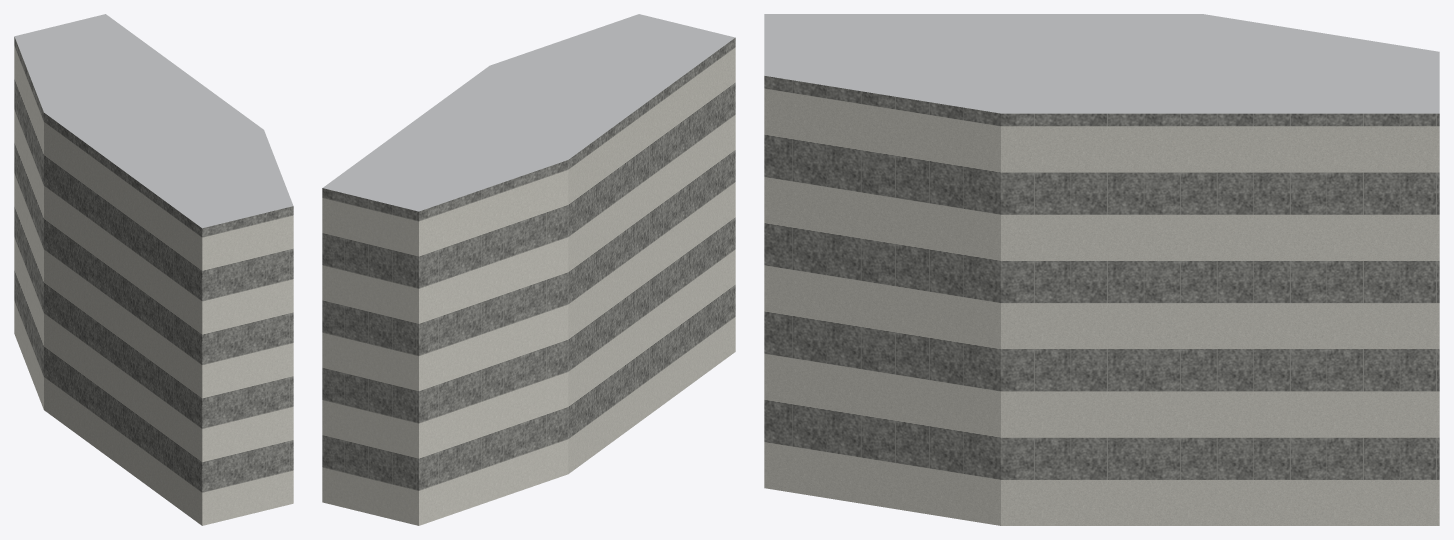
File: bldg_far_01.gltf
The picture shows the model from 3 angles, left to right: view 1: azimuth 30°, elevation 25°; view 2: azimuth 150°, elevation 25°; view 3: azimuth 270°, elevation 25°; orthographic projection. The views are drawn at different scales.
Parts seen in each view (by area): view 1: bldg_far_01.facade, bldg_far_01.roof; view 2: bldg_far_01.facade, bldg_far_01.roof; view 3: bldg_far_01.facade, bldg_far_01.roof.
Boxes of the visible parts, bbox=[...] form: bldg_far_01.facade: bbox=[14, 37, 293, 525]; bldg_far_01.roof: bbox=[14, 14, 293, 228]; bldg_far_01.facade: bbox=[322, 37, 735, 525]; bldg_far_01.roof: bbox=[323, 14, 734, 211]; bldg_far_01.facade: bbox=[764, 76, 1439, 525]; bldg_far_01.roof: bbox=[764, 14, 1439, 113].
Bounding box in the file's own units: 9.67 × 18.67 × 27.71.
2 materials, 1 textured.
